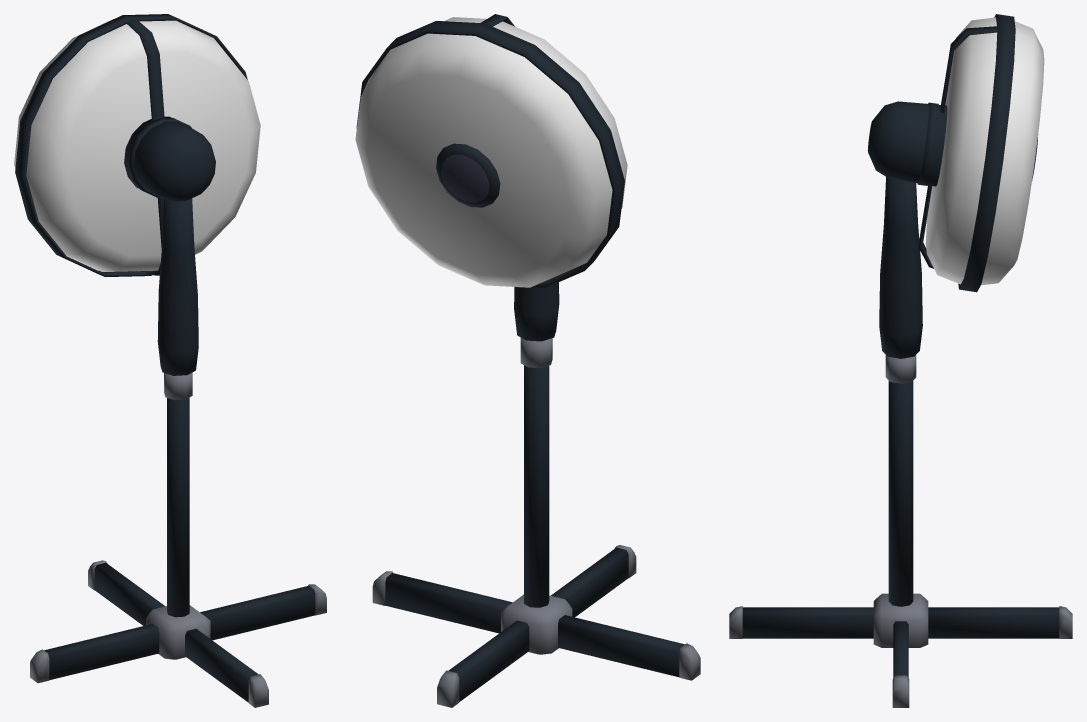
The model's file is fan1.glb.
3 views of the same model, side by side, from view 1: azimuth 30°, elevation 25°; view 2: azimuth 150°, elevation 25°; view 3: azimuth 270°, elevation 25° (orthographic). The views are drawn at different scales.
Parts seen in each view (by area): view 1: (item)fan[0], fan_alpha; view 2: fan_alpha, (item)fan[0]; view 3: (item)fan[0], fan_alpha.
Part boxes in pixels (x1,y1,x2,y2): (item)fan[0]: (15, 14, 326, 707); fan_alpha: (14, 19, 260, 271); fan_alpha: (355, 17, 627, 287); (item)fan[0]: (356, 14, 700, 707); (item)fan[0]: (729, 14, 1072, 707); fan_alpha: (925, 17, 1044, 285).
Bounding box in the file's own units: 3.12 × 6.14 × 3.12.
1 material, 1 textured.
